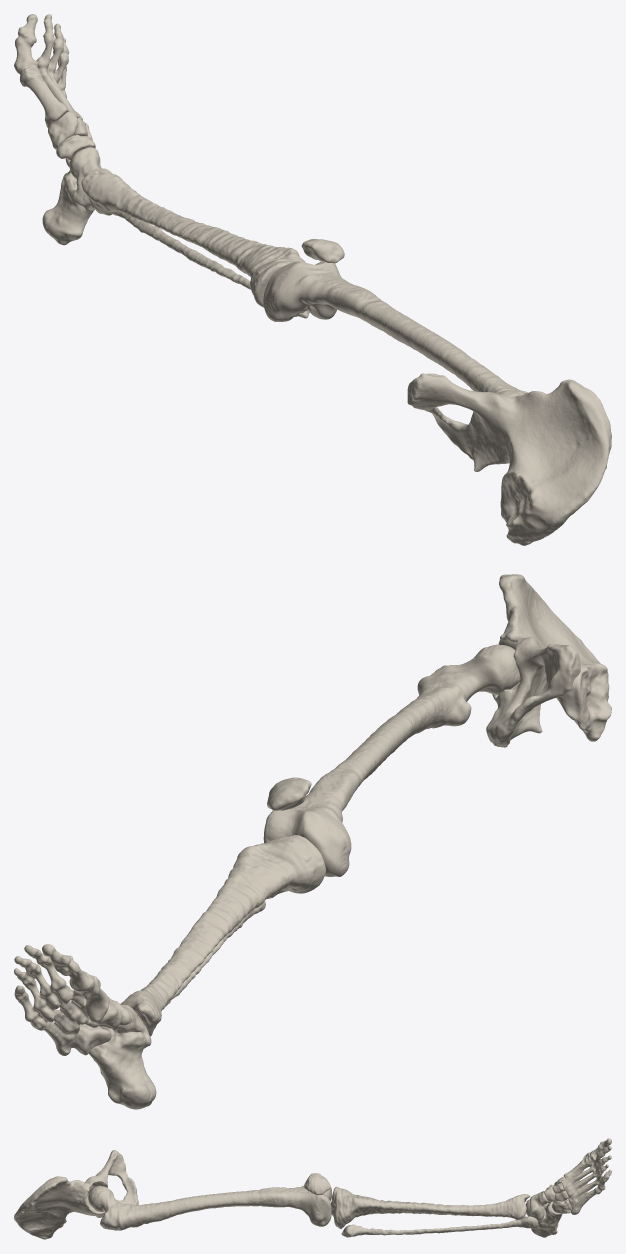
File: vhf-right-bone.glb
3 renders of one model, top to bottom at view 1: azimuth 30°, elevation 25°; view 2: azimuth 150°, elevation 25°; view 3: azimuth 270°, elevation 25°, orthographic. The views are drawn at different scales.
Visible parts, largest first — view 1: vhf-right-bone-pelvis, vhf-right-bone-femur, vhf-right-bone-tibia, vhf-right-bone-phalanges, vhf-right-bone-calcaneous, vhf-right-bone-fibula, vhf-right-bone-talus, vhf-right-bone-patella, vhf-right-bone-medialcuneiform; view 2: vhf-right-bone-femur, vhf-right-bone-pelvis, vhf-right-bone-tibia, vhf-right-bone-phalanges, vhf-right-bone-calcaneous, vhf-right-bone-patella, vhf-right-bone-cuboid; view 3: vhf-right-bone-femur, vhf-right-bone-pelvis, vhf-right-bone-tibia, vhf-right-bone-phalanges, vhf-right-bone-fibula, vhf-right-bone-calcaneous, vhf-right-bone-talus, vhf-right-bone-patella, vhf-right-bone-cuboid.
Part boxes in pixels (bbox=[...]): vhf-right-bone-pelvis: bbox=[407, 373, 611, 545]; vhf-right-bone-femur: bbox=[263, 261, 528, 396]; vhf-right-bone-tibia: bbox=[81, 171, 307, 313]; vhf-right-bone-phalanges: bbox=[14, 14, 82, 127]; vhf-right-bone-calcaneous: bbox=[42, 170, 93, 245]; vhf-right-bone-fibula: bbox=[113, 212, 309, 318]; vhf-right-bone-talus: bbox=[69, 147, 111, 211]; vhf-right-bone-patella: bbox=[301, 238, 344, 263]; vhf-right-bone-medialcuneiform: bbox=[48, 111, 77, 149]; vhf-right-bone-femur: bbox=[263, 644, 520, 876]; vhf-right-bone-pelvis: bbox=[486, 574, 611, 747]; vhf-right-bone-tibia: bbox=[120, 835, 325, 1036]; vhf-right-bone-phalanges: bbox=[14, 944, 109, 1055]; vhf-right-bone-calcaneous: bbox=[88, 1026, 156, 1109]; vhf-right-bone-patella: bbox=[267, 777, 311, 810]; vhf-right-bone-cuboid: bbox=[71, 1024, 111, 1055]; vhf-right-bone-femur: bbox=[88, 1185, 331, 1230]; vhf-right-bone-pelvis: bbox=[14, 1150, 138, 1239]; vhf-right-bone-tibia: bbox=[331, 1186, 529, 1228]; vhf-right-bone-phalanges: bbox=[561, 1138, 611, 1214]; vhf-right-bone-fibula: bbox=[341, 1216, 538, 1237]; vhf-right-bone-calcaneous: bbox=[531, 1201, 562, 1237]; vhf-right-bone-talus: bbox=[525, 1191, 550, 1220]; vhf-right-bone-patella: bbox=[304, 1173, 330, 1195]; vhf-right-bone-cuboid: bbox=[552, 1199, 570, 1213].
Bounding box in the file's own units: 160 × 198 × 1024.
